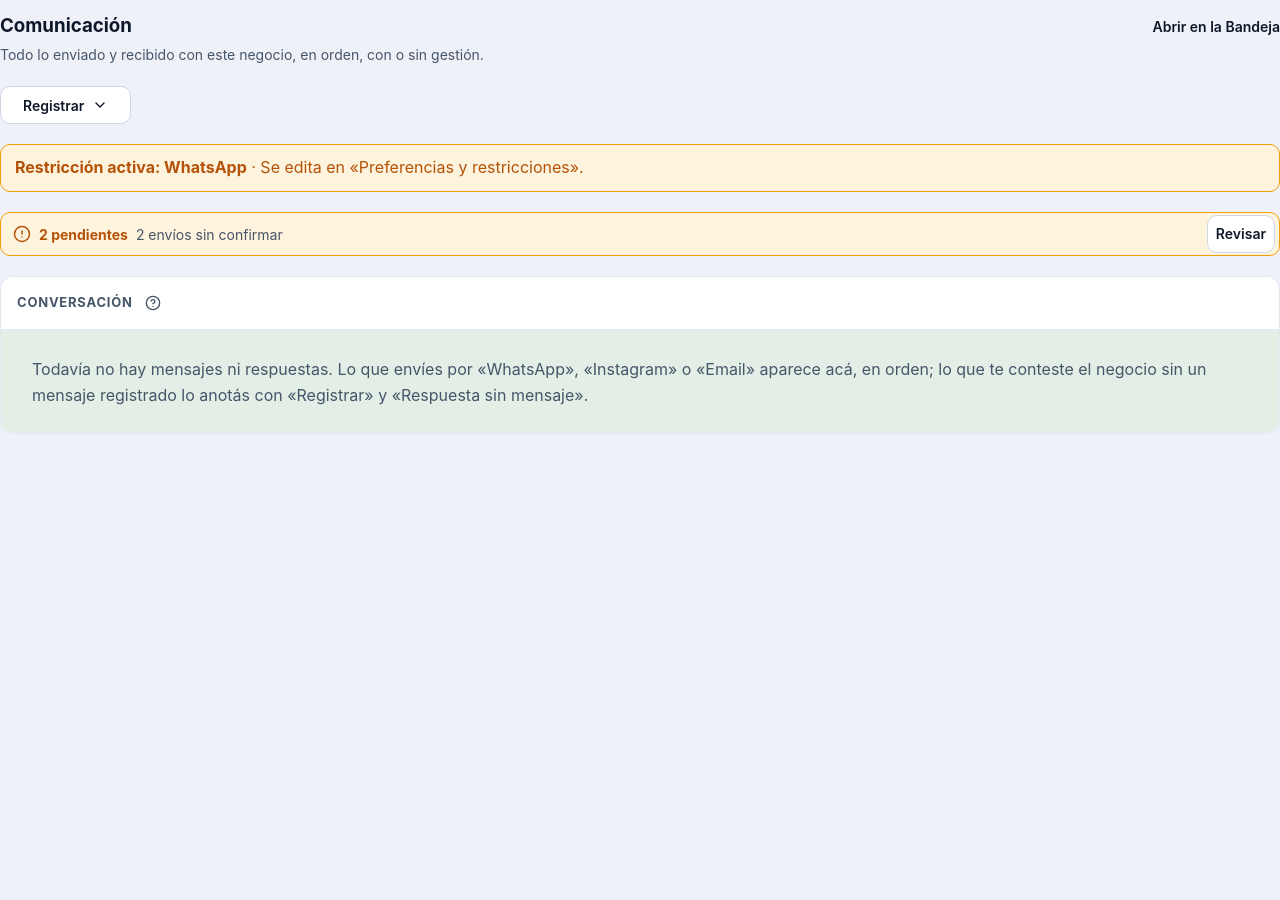
Scenario: Bulk «Sí, se enviaron» / «No se enviaron» (spec 100 §8, D3) › disables «Sí, marcar» when every selected open is blocked
Expected: the element "Conversación" is shown, [0, 276, 1279, 434]
What coordinates should you click on to do the following:
click the button "Revisar"
I would click on:
 (1241, 234)
Its box is [1207, 215, 1275, 253].
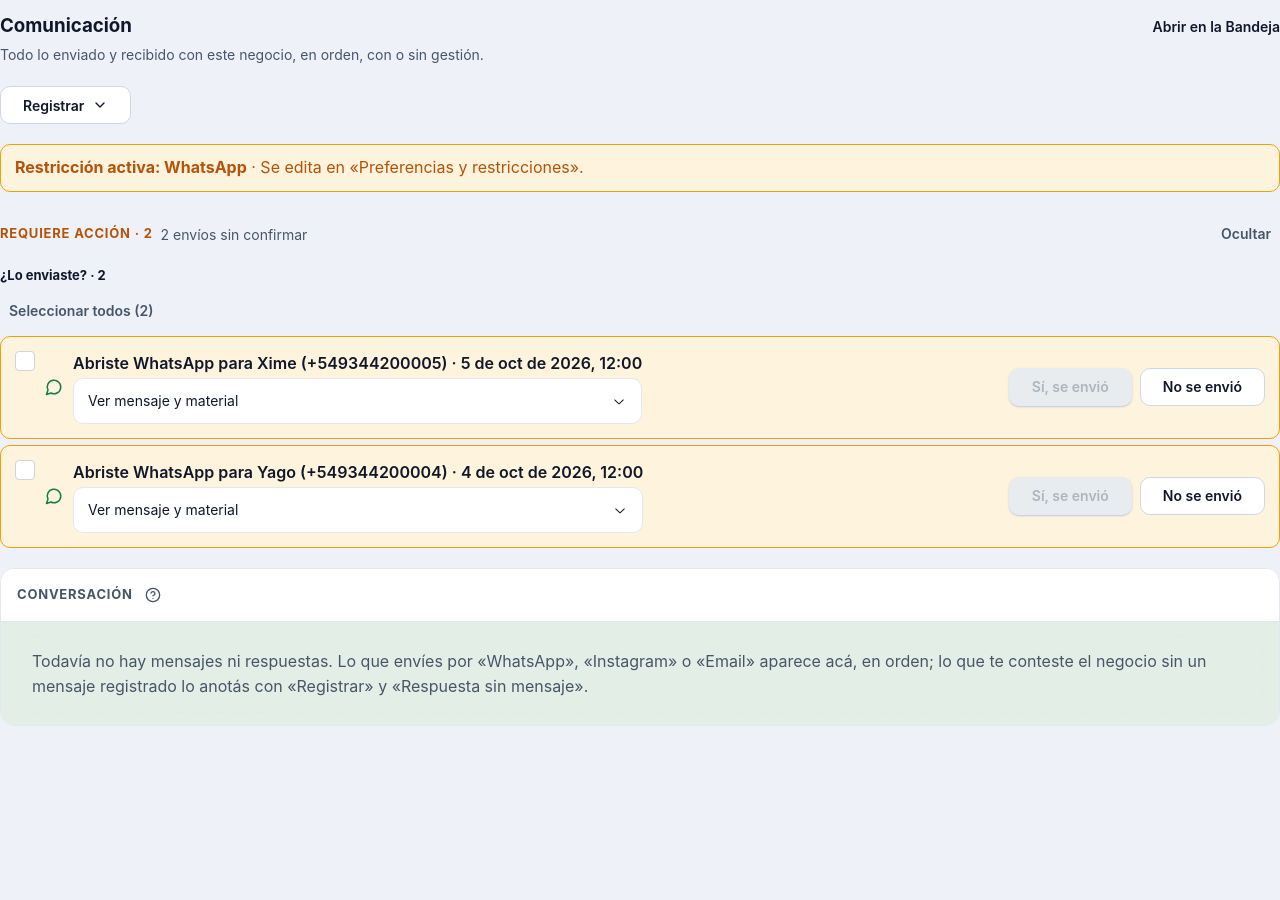
Expected: the heading "Requiere acción · 2" is shown, [0, 224, 153, 244]
What coordinates should you click on to do the following:
click the button "Seleccionar todos (2)"
I would click on:
 (81, 311)
Its box is [0, 292, 162, 330].
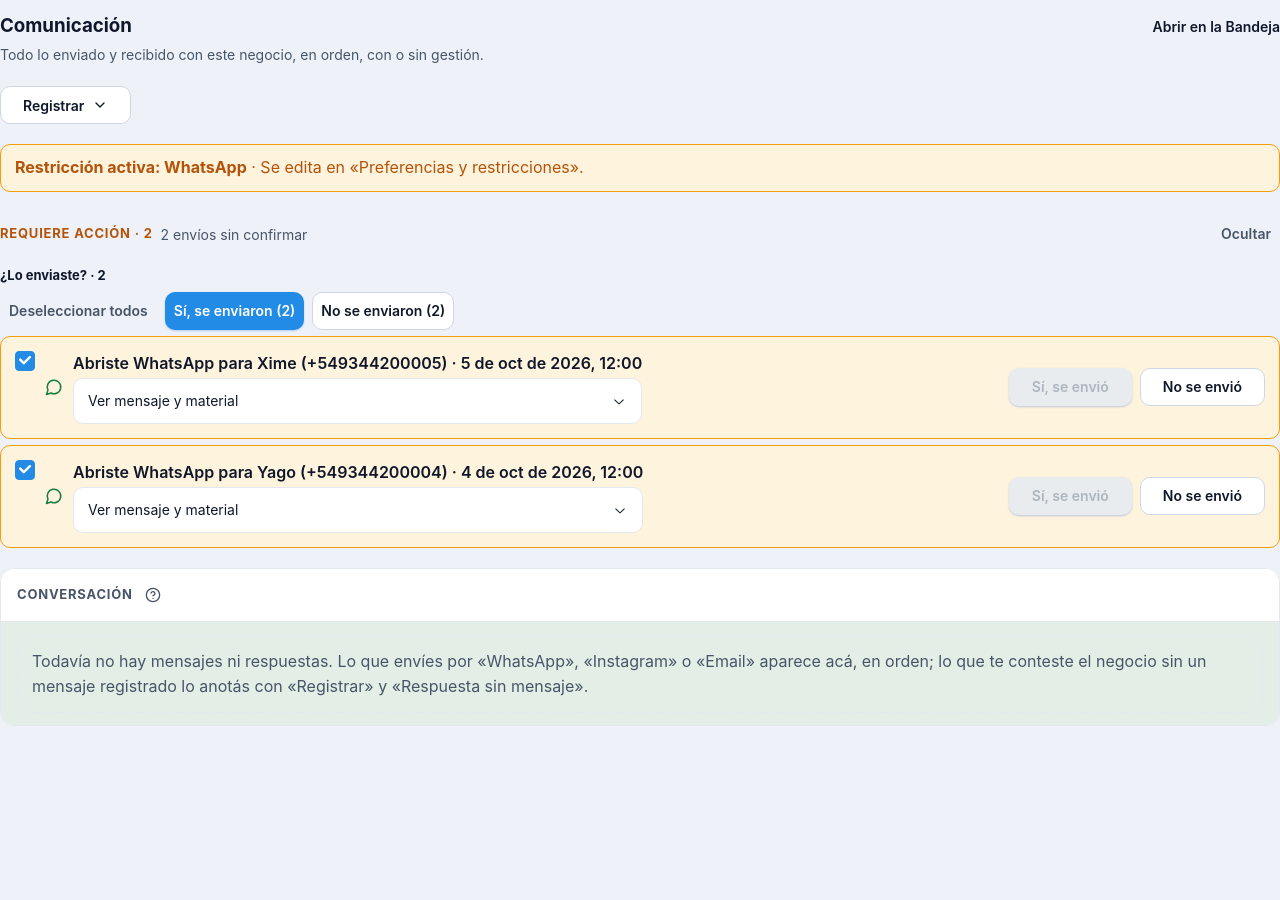
What coordinates should you click on to do the following:
click the button "Sí, se enviaron (2)"
I would click on:
 (235, 311)
Its box is [165, 292, 304, 330].
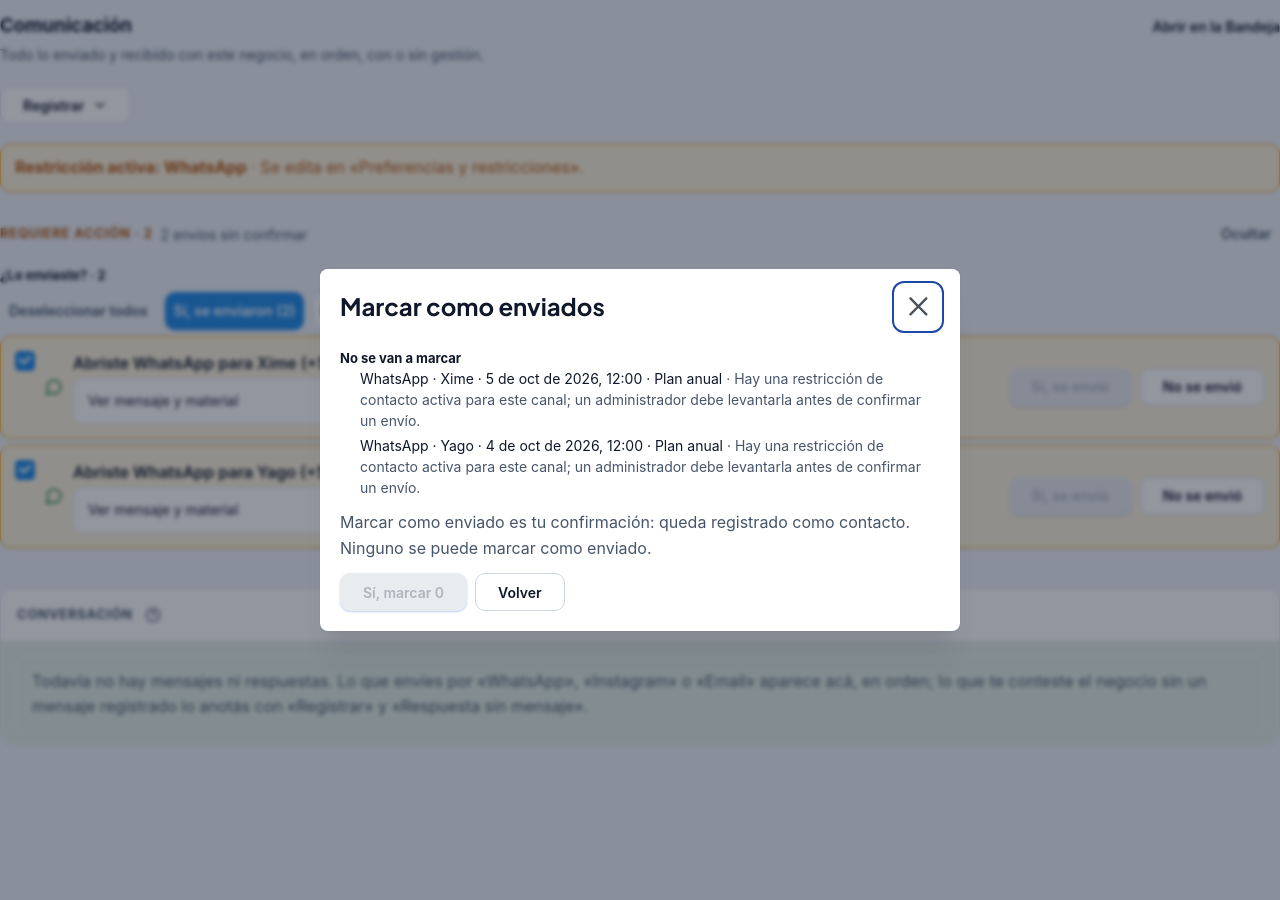
Expected: the button "Sí, marcar 0" is disabled, [340, 573, 467, 611]
Expected: the text "Ninguno se puede marcar como enviado." is shown, [340, 538, 652, 558]
